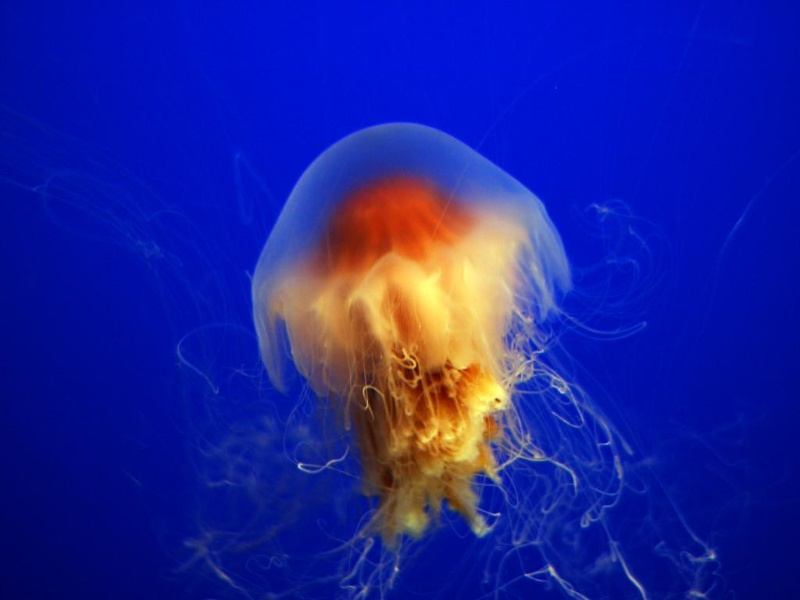Jellyfish: (173, 122, 720, 599)
